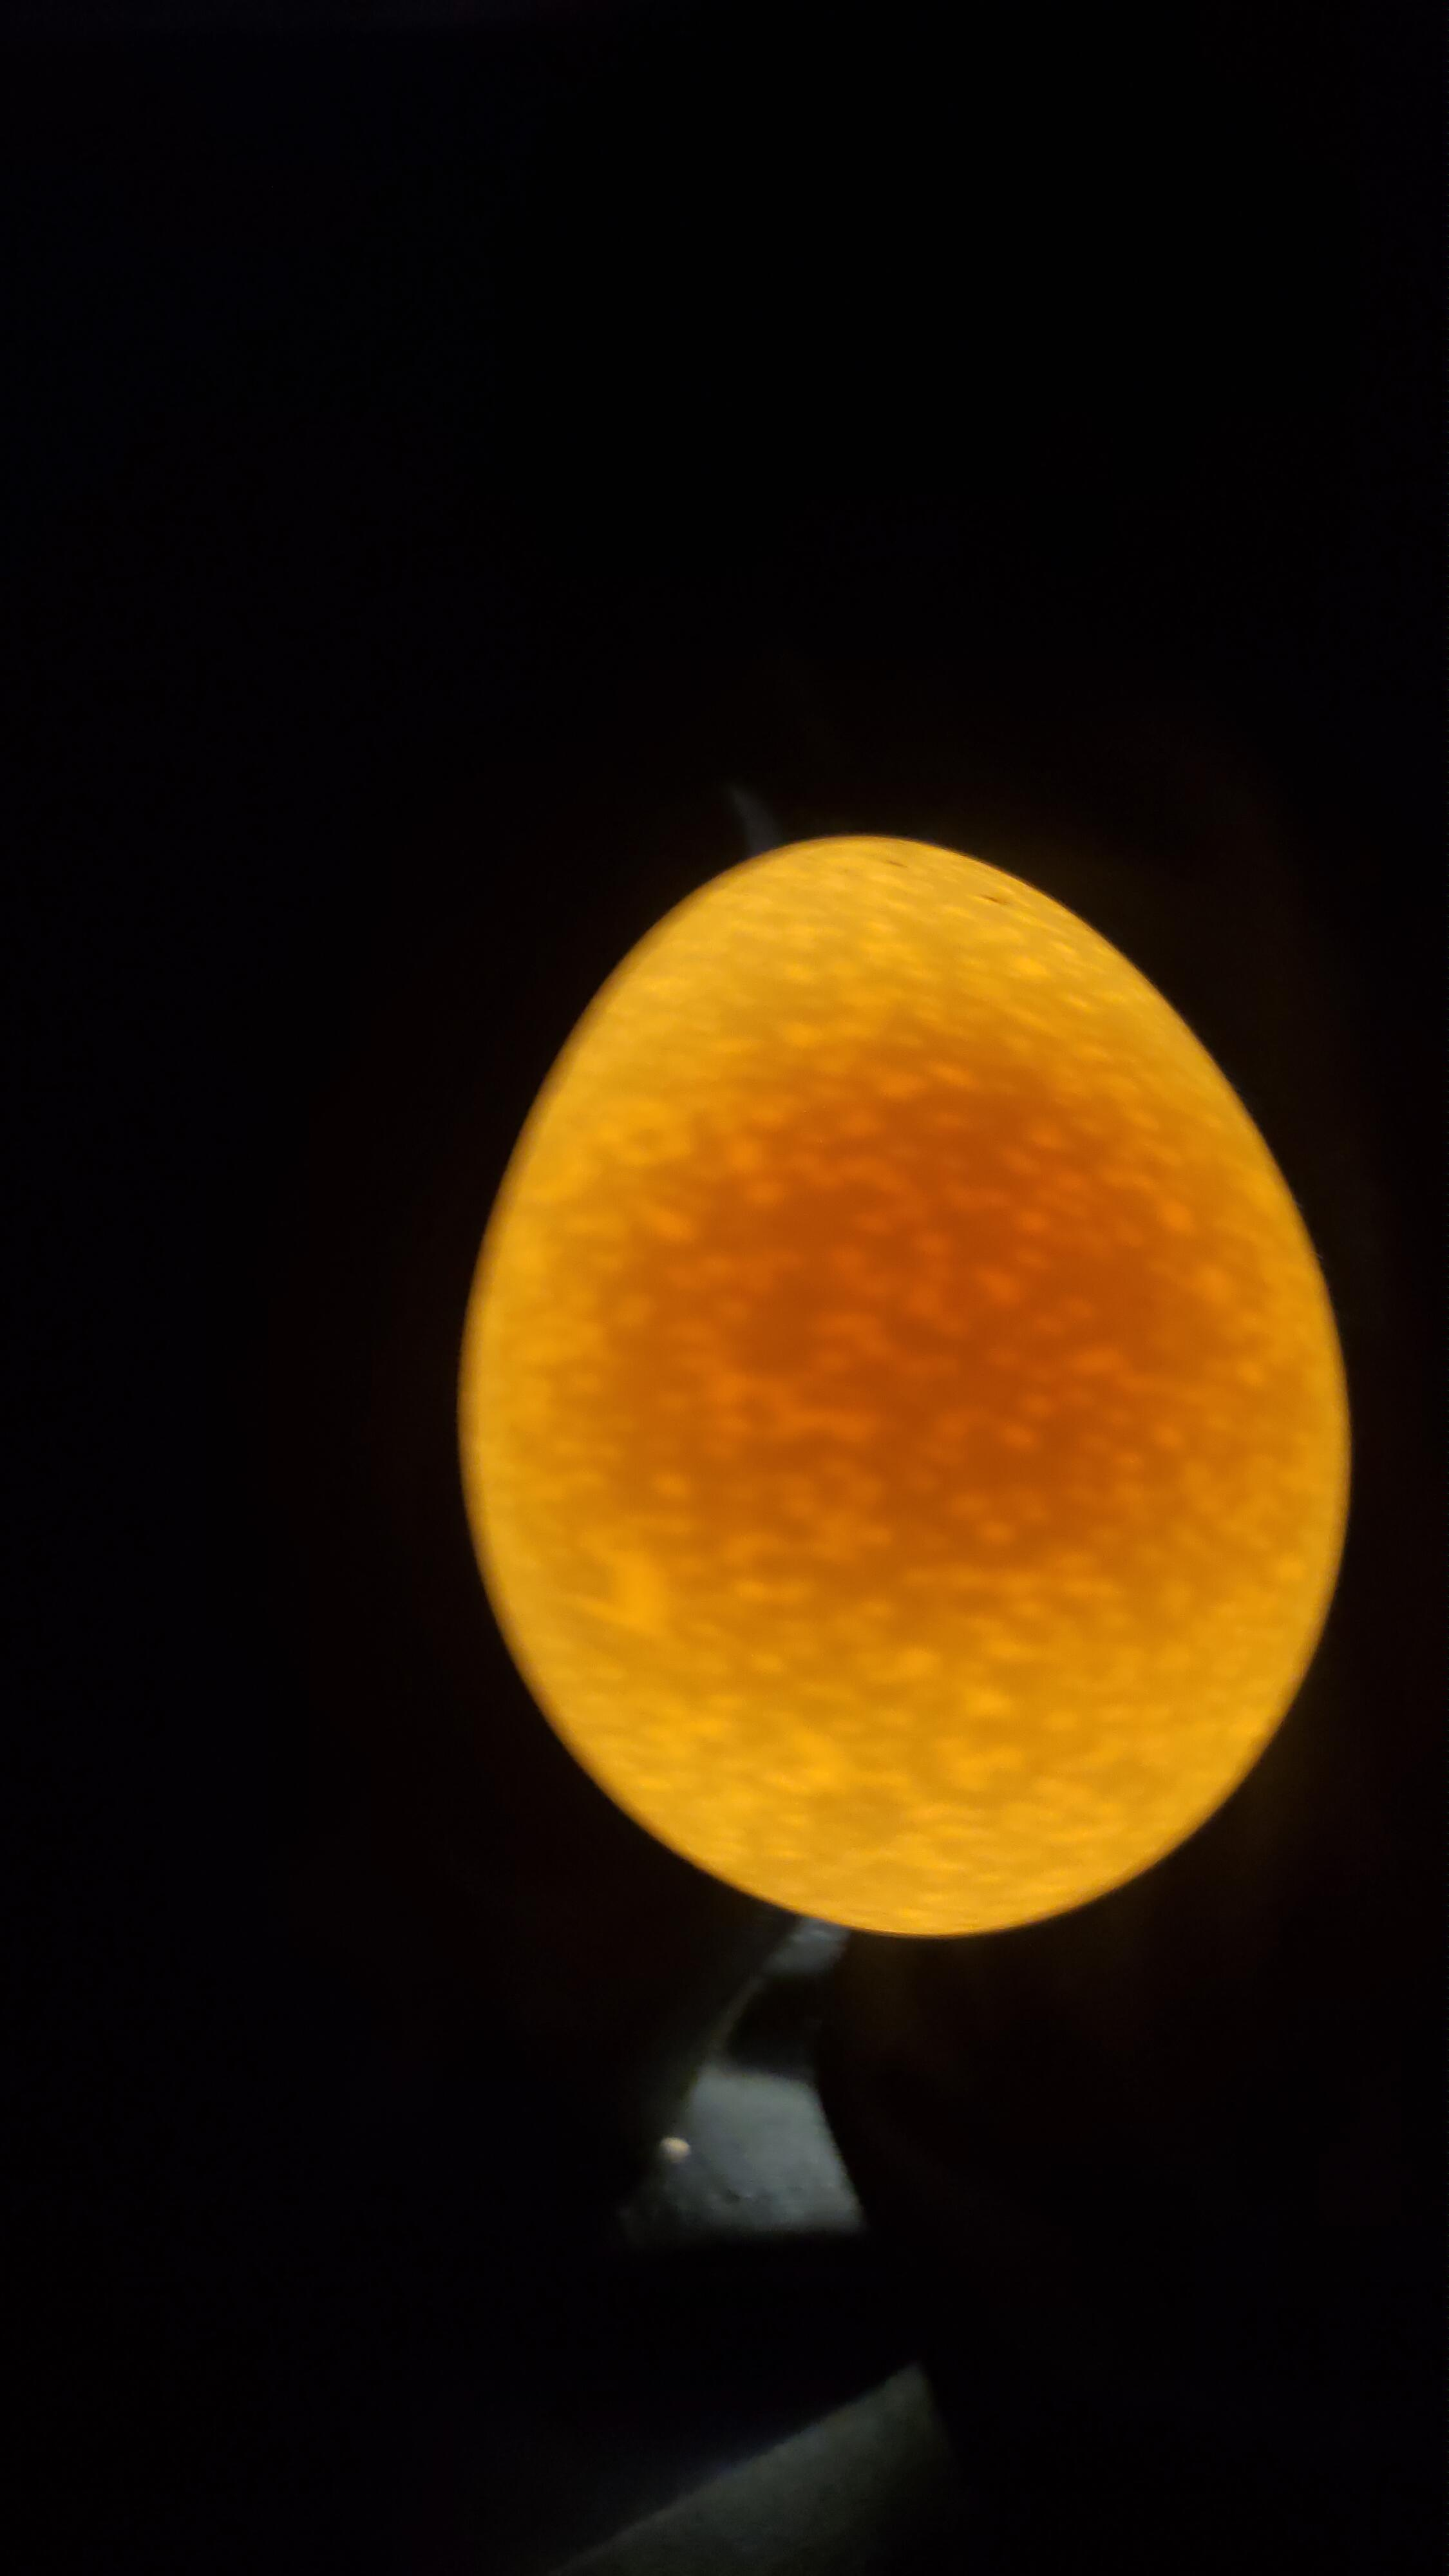A - Good: (412, 786, 1417, 1951)
